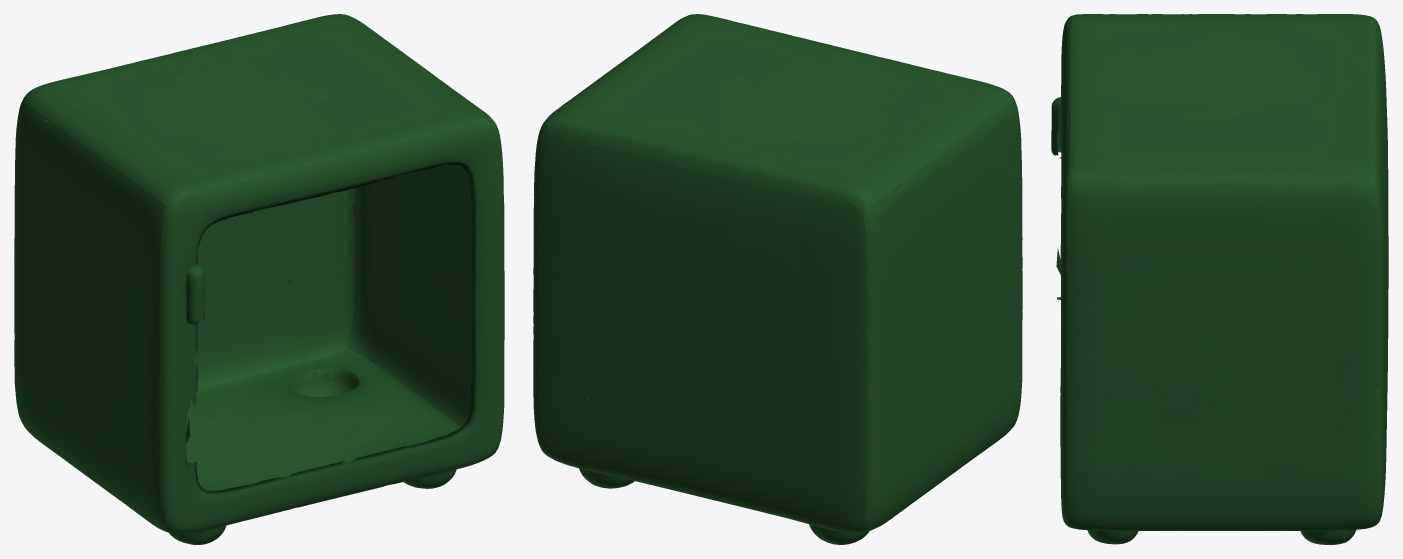
3 renders of one model, left to right at view 1: azimuth 30°, elevation 25°; view 2: azimuth 150°, elevation 25°; view 3: azimuth 270°, elevation 25°, orthographic. The views are drawn at different scales.
Visible parts, largest first — view 1: geometry_0; view 2: geometry_0; view 3: geometry_0.
Part boxes in pixels (x1,y1,x2,y2): geometry_0: (14, 14, 504, 544); geometry_0: (533, 14, 1022, 544); geometry_0: (1051, 14, 1388, 544).
Size of the model in its own units: 0.3066 by 0.3147 by 0.2466.
1 material, 1 textured.
